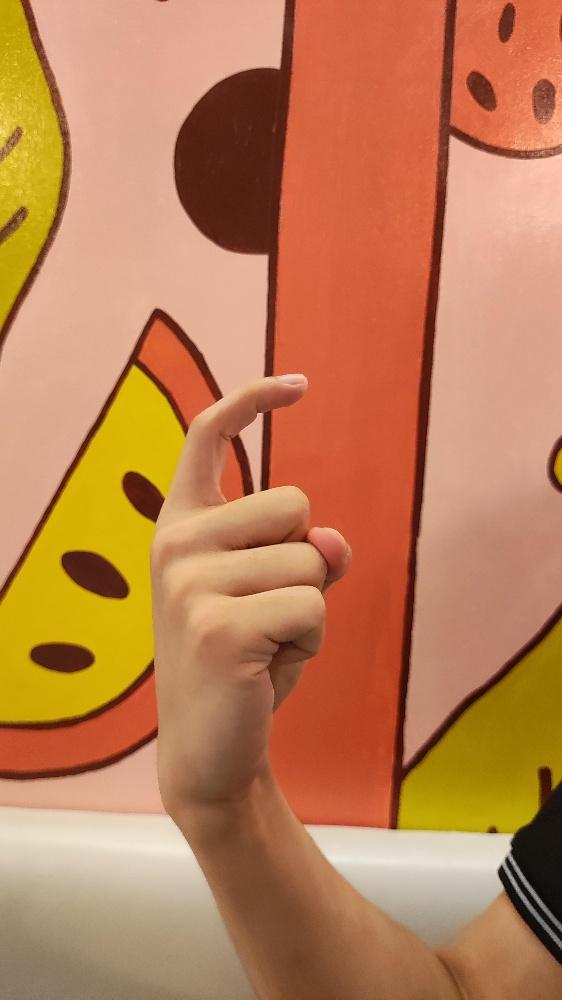x: (145, 370, 353, 793)
